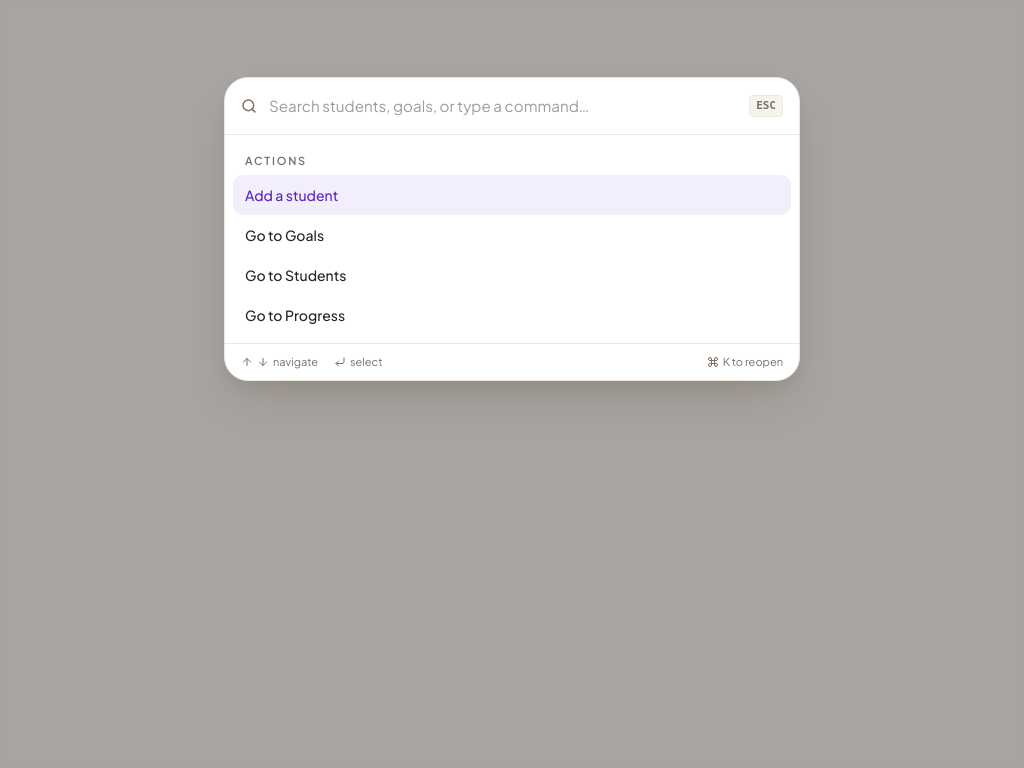
it: CommandPalette › explains an empty result rather than showing a blank panel
Type "zzzzzzqqq" into the field. click: (503, 106)
box: left=269, top=78, right=737, bottom=134
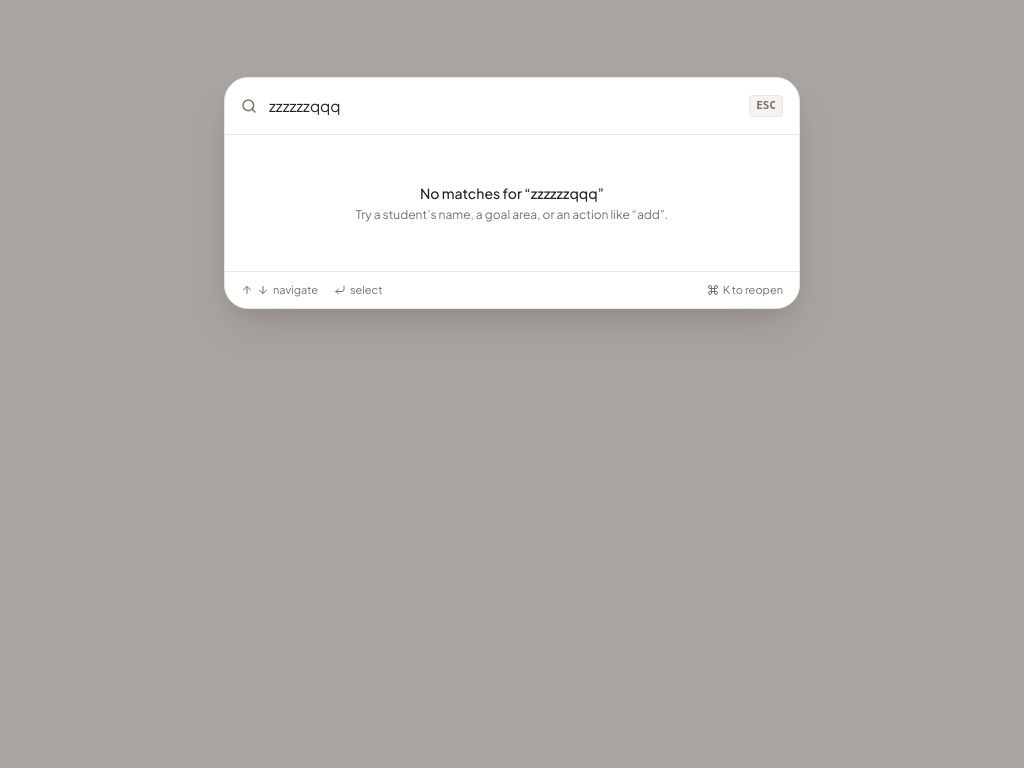
Check: the text "No matches for “zzzzzzqqq”" is shown, box left=420, top=184, right=604, bottom=202
